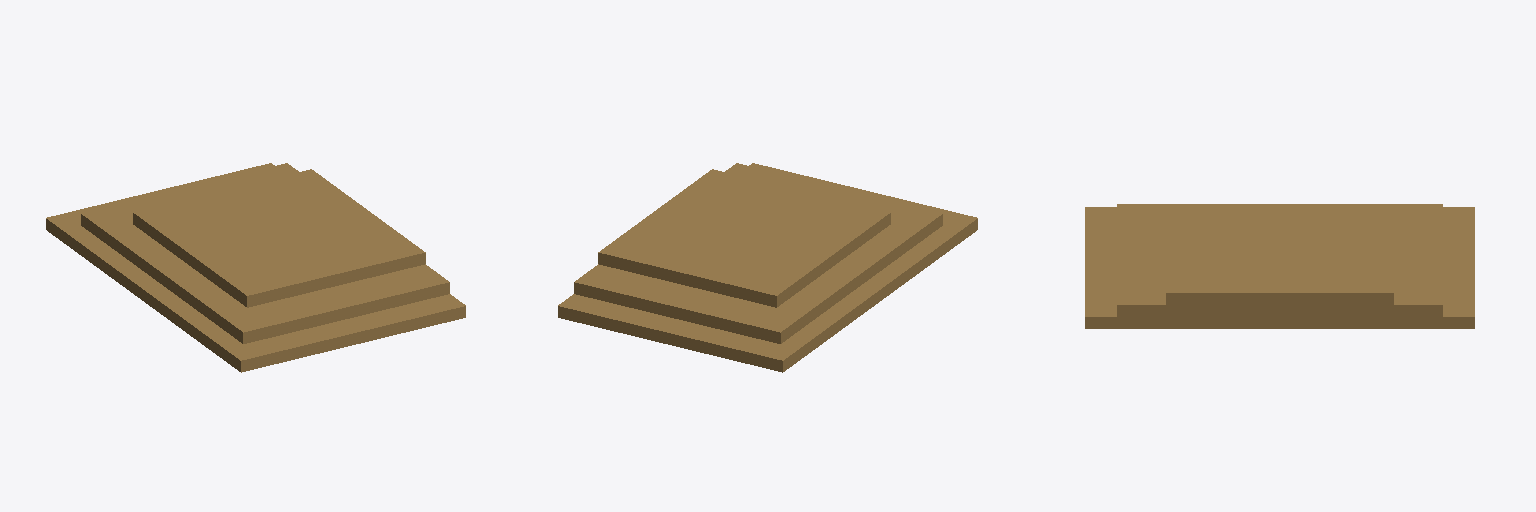
File: Patio.obj
3 renders of one model, left to right at view 1: azimuth 30°, elevation 25°; view 2: azimuth 150°, elevation 25°; view 3: azimuth 270°, elevation 25°, orthographic.
Visible parts, largest first — view 1: Plate_Wood_01; view 2: Plate_Wood_01; view 3: Plate_Wood_01.
Part boxes in pixels (x1,y1,x2,y2): Plate_Wood_01: (46,163,465,372); Plate_Wood_01: (558,163,977,372); Plate_Wood_01: (1085,204,1474,328).
Bounding box in the file's own units: 2 × 0.3 × 3.